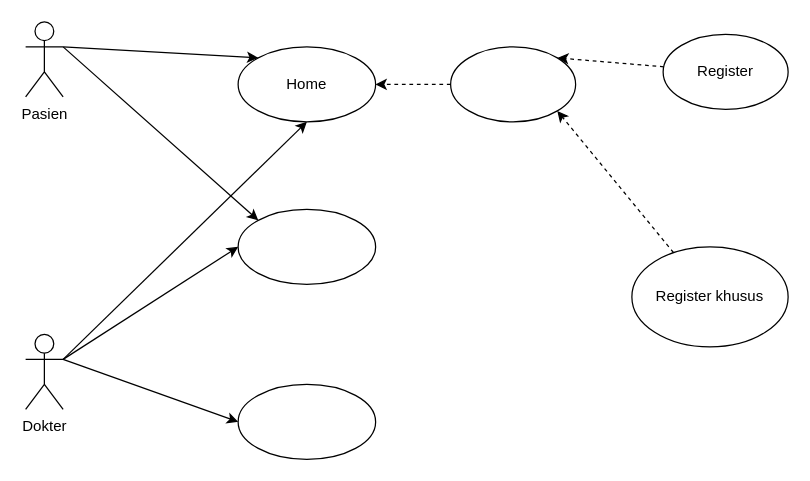
This 810x481 diagram has some shape labels left out. Here are the shapes that lost their labels. From the top down, the box of each, then its label:
(449, 46, 576, 122): Login
(237, 208, 376, 284): History
(237, 383, 376, 459): Diagnose
